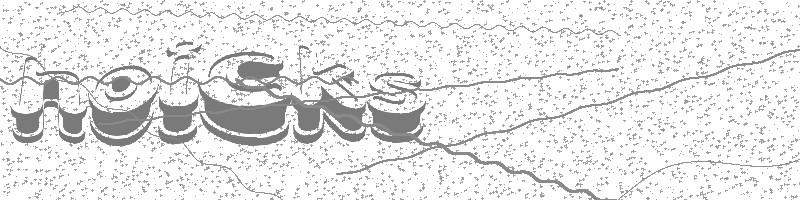c: (200, 48, 291, 146)
h: (11, 55, 88, 146)
i: (157, 36, 199, 145)
k: (292, 43, 368, 144)
o: (88, 64, 157, 146)
s: (369, 67, 427, 144)
